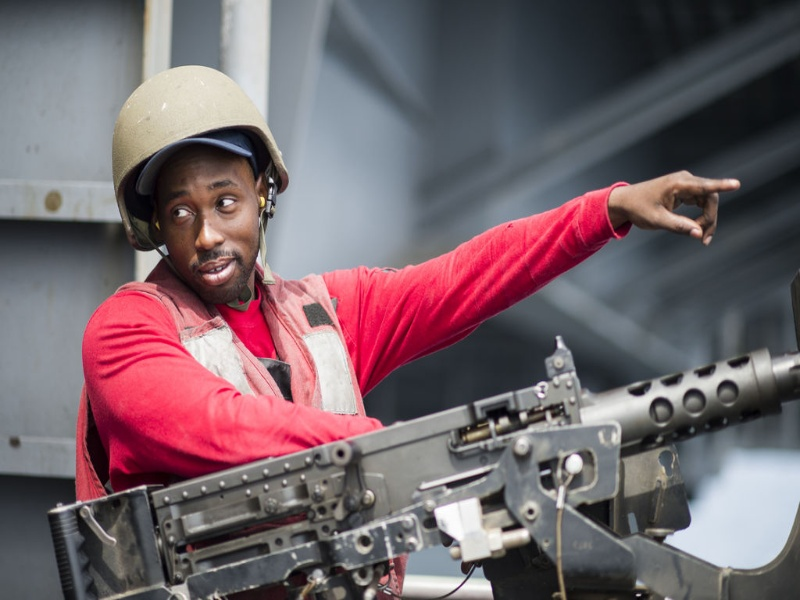Baret: (111, 65, 290, 194)
